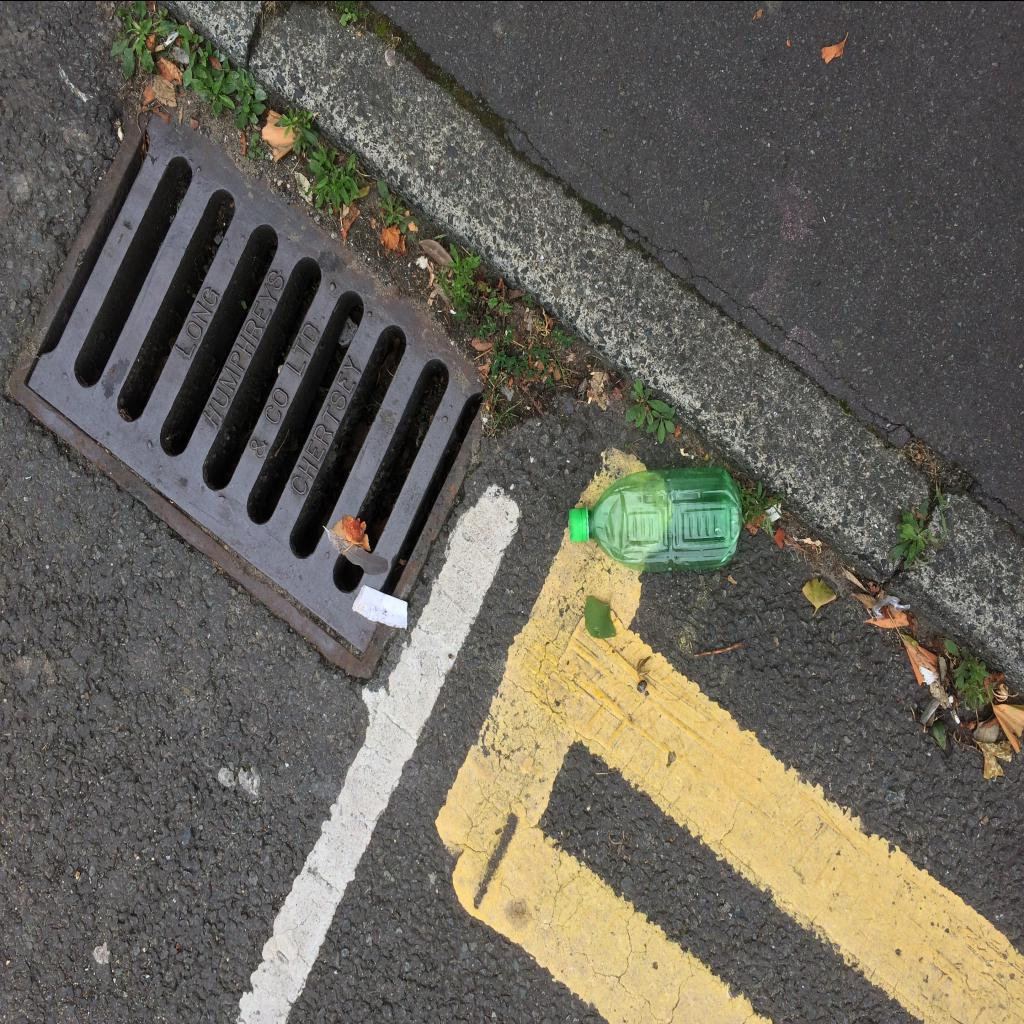Clear plastic bottle: (570, 466, 742, 570)
Normal paper: (352, 584, 408, 626)
